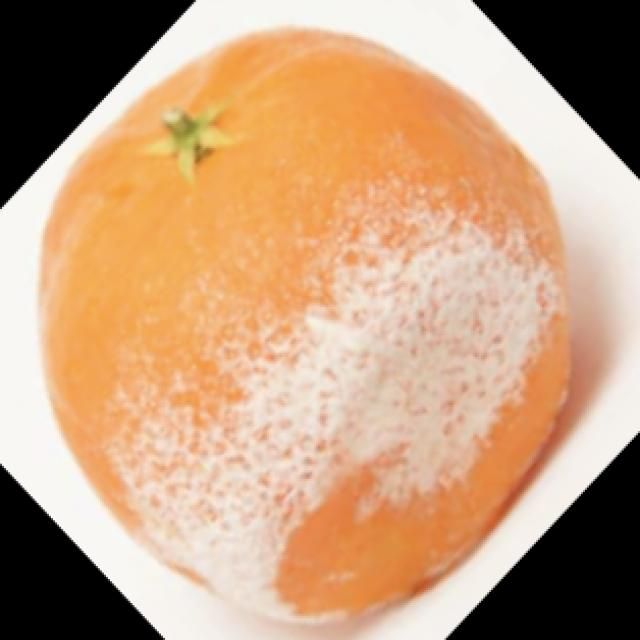sedikit_busuk: (39, 34, 567, 626)
